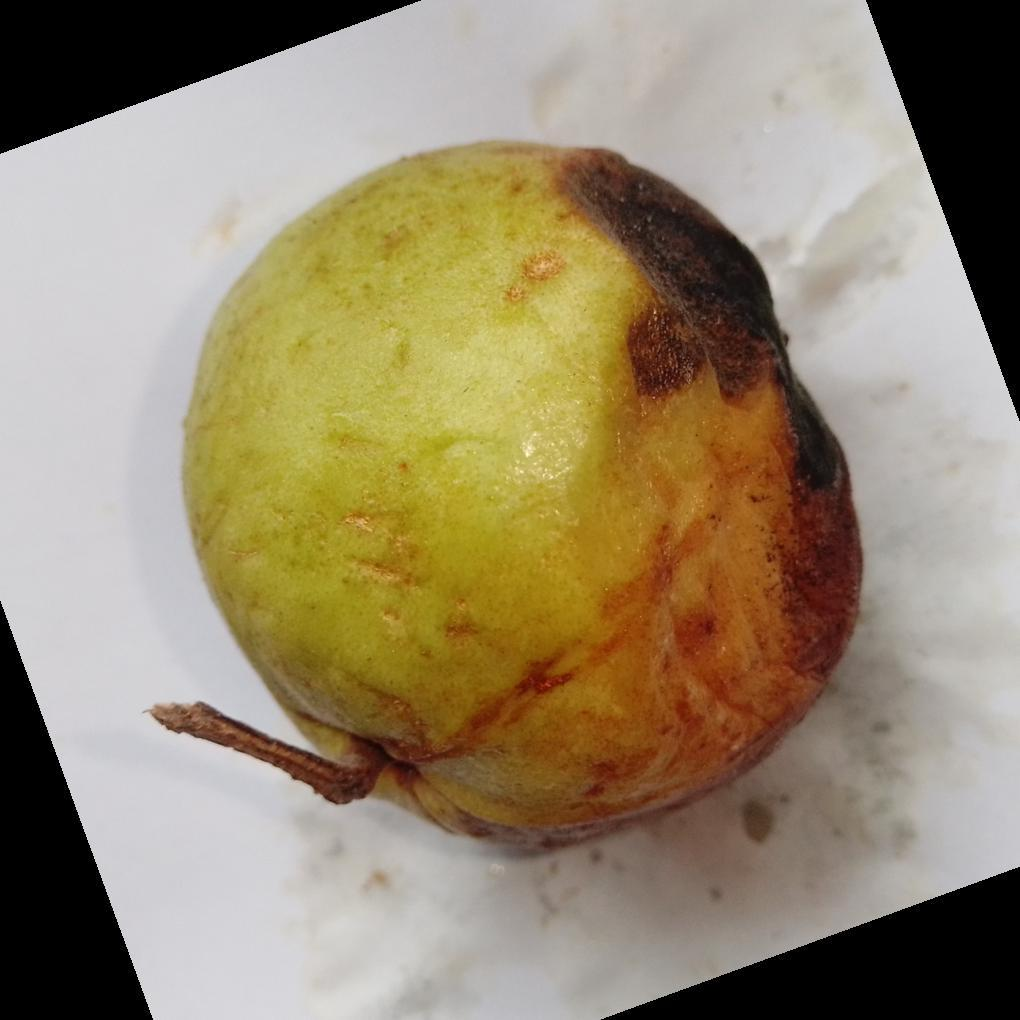FreshOrange: (176, 142, 864, 854)
